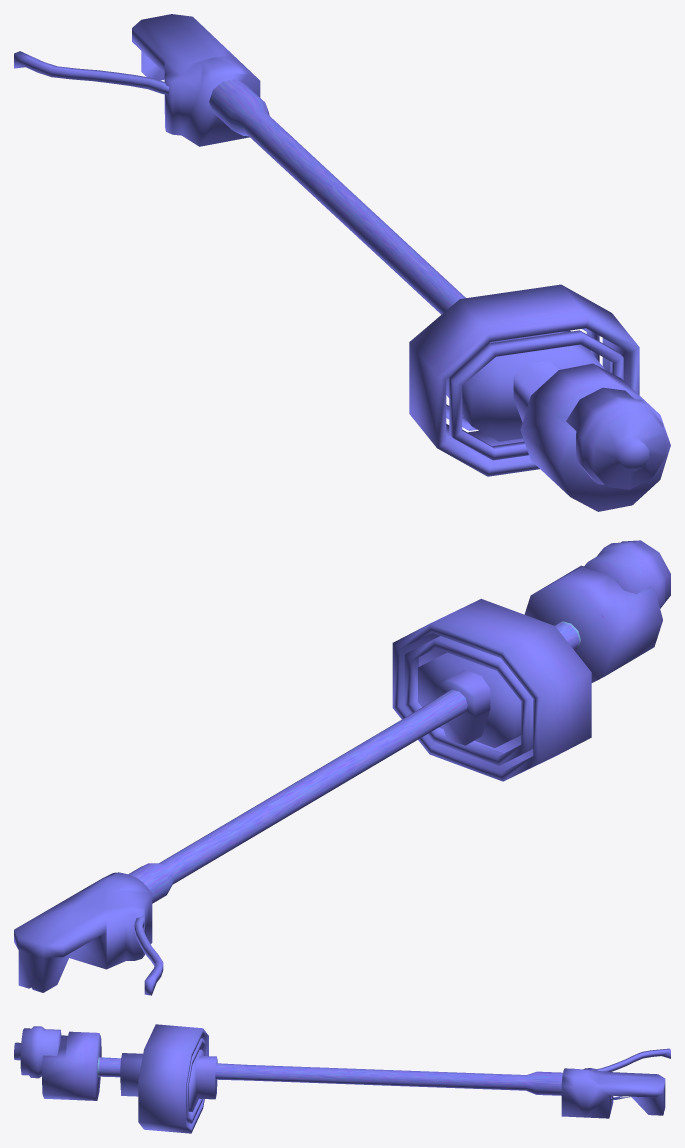
File: RecordNeedleArm.fbx
The picture shows the model from 3 angles, top to bottom: view 1: azimuth 30°, elevation 25°; view 2: azimuth 150°, elevation 25°; view 3: azimuth 270°, elevation 25°; orthographic projection. The views are drawn at different scales.
Visible parts, largest first — view 1: MappedRecordP.002; view 2: MappedRecordP.002; view 3: MappedRecordP.002.
Boxes of the visible parts, bbox=[...] form: MappedRecordP.002: bbox=[14, 14, 670, 511]; MappedRecordP.002: bbox=[14, 540, 670, 995]; MappedRecordP.002: bbox=[14, 1024, 670, 1133].
Size of the model in its own units: 5.92 by 30.54 by 4.29.
